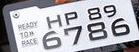6: (40, 29, 62, 50), (109, 16, 130, 36)
7: (62, 24, 84, 46)
8: (85, 20, 108, 41), (85, 6, 102, 20)
9: (103, 3, 117, 17)
H: (45, 13, 62, 29)
P: (63, 10, 78, 24)
